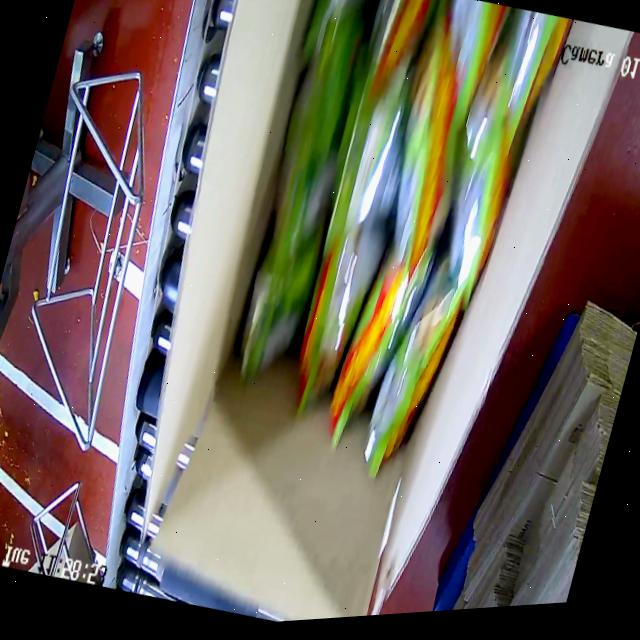YOGURT_HERB: (211, 0, 569, 483)
